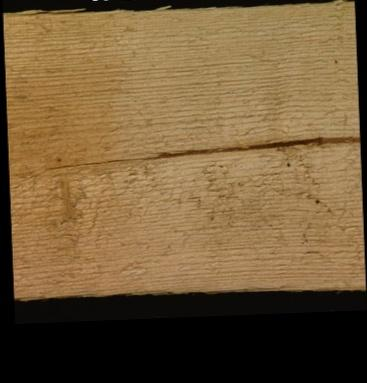split: (41, 153, 153, 167)
